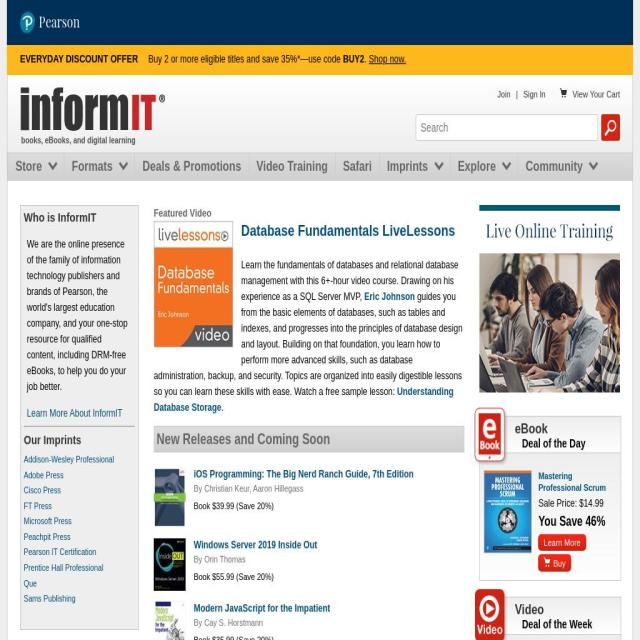button: (134, 153, 249, 181), (248, 153, 336, 181), (518, 153, 598, 181), (378, 153, 444, 181), (64, 153, 128, 181), (449, 153, 512, 181), (8, 153, 58, 181), (335, 153, 379, 181), (538, 533, 586, 552), (538, 554, 571, 572), (482, 419, 482, 420), (532, 469, 532, 470), (482, 600, 482, 601)
field: (416, 114, 598, 142), (601, 114, 620, 141)
heading: (241, 222, 455, 239), (156, 430, 330, 448), (514, 419, 619, 437), (514, 600, 619, 618), (24, 432, 135, 448), (24, 210, 135, 225), (522, 436, 619, 450), (522, 617, 619, 631)
image: (479, 205, 620, 393), (479, 417, 622, 582), (154, 221, 232, 346), (20, 87, 167, 131), (479, 597, 621, 640), (484, 469, 531, 552), (154, 468, 186, 528), (154, 537, 186, 591), (154, 601, 186, 640), (20, 12, 74, 33)
link: (154, 385, 454, 414), (194, 467, 414, 481), (194, 601, 330, 614), (194, 537, 318, 551), (538, 470, 607, 492), (27, 406, 122, 419), (24, 454, 114, 465), (24, 546, 96, 558), (24, 562, 103, 572), (204, 616, 263, 628), (364, 290, 415, 303), (24, 530, 70, 542), (368, 52, 406, 66), (24, 594, 76, 604), (253, 484, 303, 494), (24, 516, 72, 526), (203, 554, 246, 565), (204, 484, 249, 494), (24, 469, 64, 480), (24, 485, 61, 496), (24, 500, 52, 511), (523, 88, 546, 100), (497, 88, 511, 100), (24, 578, 37, 588)
text: (154, 290, 462, 398), (27, 235, 132, 394), (241, 258, 458, 304), (154, 205, 464, 221), (194, 499, 464, 513), (194, 570, 464, 584), (148, 52, 344, 66), (194, 633, 464, 640), (20, 52, 138, 66), (538, 512, 617, 530), (20, 135, 136, 146), (538, 495, 617, 510), (39, 12, 80, 32), (589, 88, 620, 100), (342, 52, 364, 66), (572, 88, 590, 100), (510, 88, 523, 100), (560, 88, 571, 101), (553, 558, 566, 568), (194, 616, 204, 628), (544, 557, 554, 569), (194, 554, 204, 565), (194, 484, 204, 494), (364, 52, 368, 66), (249, 484, 253, 494), (222, 401, 224, 414)
